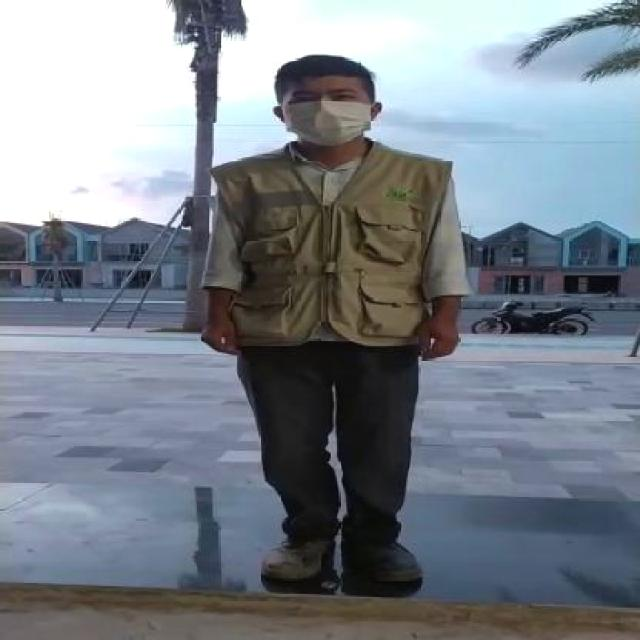face_mask: (276, 85, 376, 141)
hand_noglove: (409, 311, 466, 364), (191, 309, 246, 362)
head_nohelmet: (269, 51, 383, 94)
person: (182, 52, 475, 593)
shoes: (340, 526, 438, 586), (250, 526, 335, 582)
vest: (197, 136, 463, 349)
